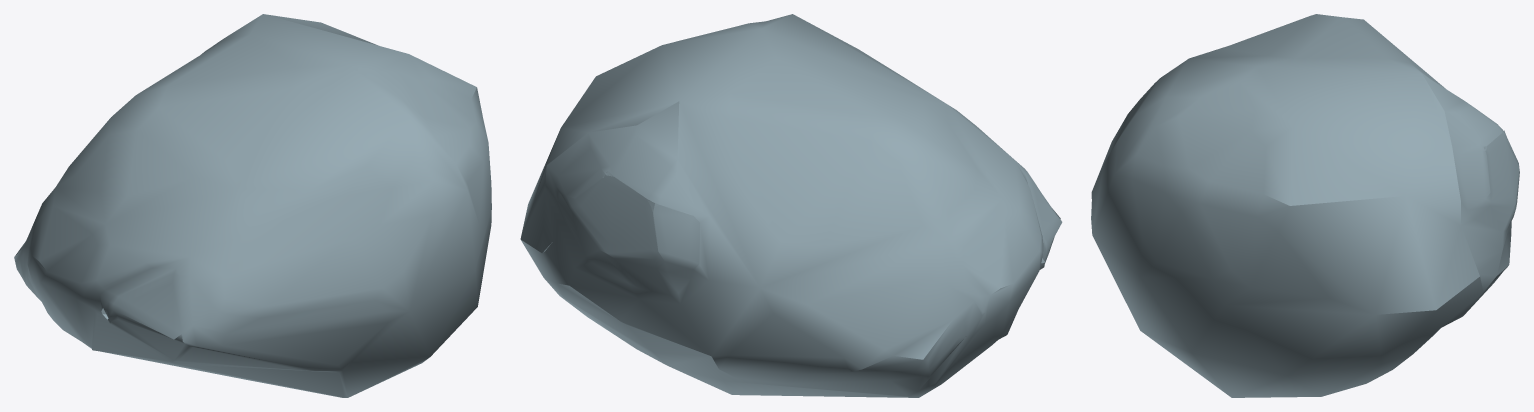
File: Asteroid 1.fbx
3 views of the same model, side by side, from view 1: azimuth 30°, elevation 25°; view 2: azimuth 150°, elevation 25°; view 3: azimuth 270°, elevation 25° (orthographic). The views are drawn at different scales.
Parts seen in each view (by area): view 1: Icosphere; view 2: Icosphere; view 3: Icosphere.
Part boxes in pixels (box(x1,y1,x2,y2)): Icosphere: box(14, 14, 491, 397); Icosphere: box(520, 14, 1062, 397); Icosphere: box(1091, 14, 1519, 397).
Bounding box in the file's own units: 279 × 198 × 235.
